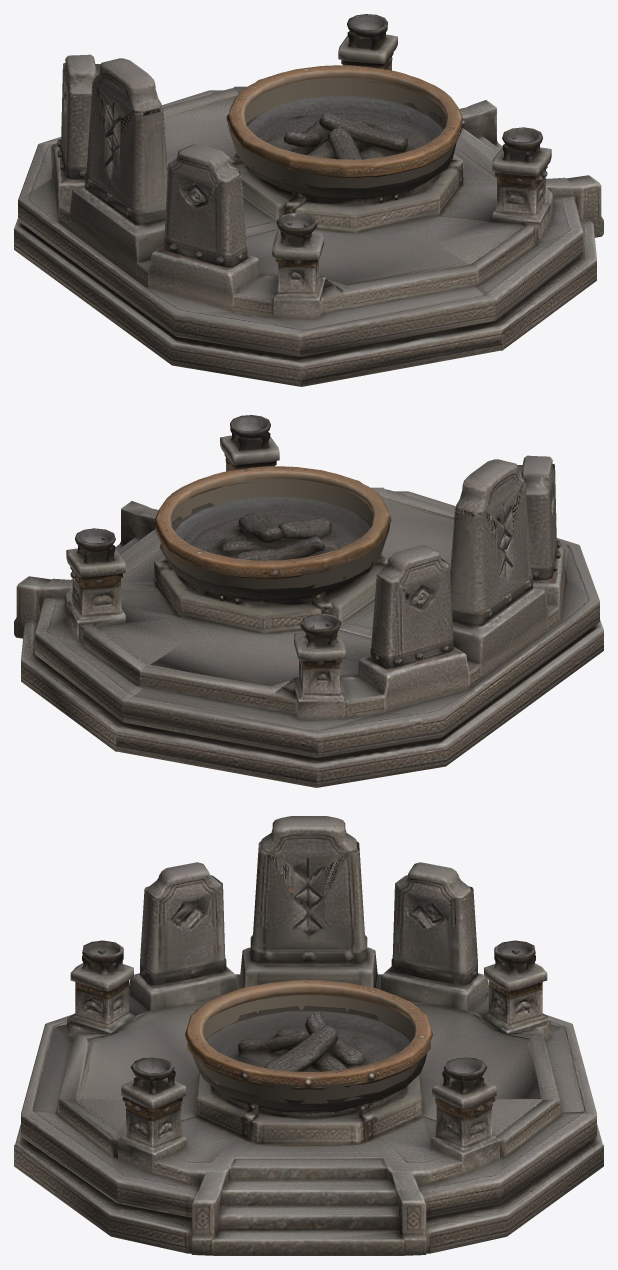
File: ocak-sv10.glb
3 views of the same model, one above another, from view 1: azimuth 30°, elevation 25°; view 2: azimuth 150°, elevation 25°; view 3: azimuth 270°, elevation 25° (orthographic).
Visible parts, largest first — view 1: tripo_node_3e7bd248-a003-4e06-ac70-7598825f4365; view 2: tripo_node_3e7bd248-a003-4e06-ac70-7598825f4365; view 3: tripo_node_3e7bd248-a003-4e06-ac70-7598825f4365.
Part boxes in pixels (x1=…): tripo_node_3e7bd248-a003-4e06-ac70-7598825f4365: x1=14, y1=14, x2=603, y2=386; tripo_node_3e7bd248-a003-4e06-ac70-7598825f4365: x1=14, y1=415, x2=603, y2=787; tripo_node_3e7bd248-a003-4e06-ac70-7598825f4365: x1=14, y1=816, x2=603, y2=1255.
Size of the model in its own units: 0.8982 by 0.4344 by 1.
3 materials, 2 textured.
